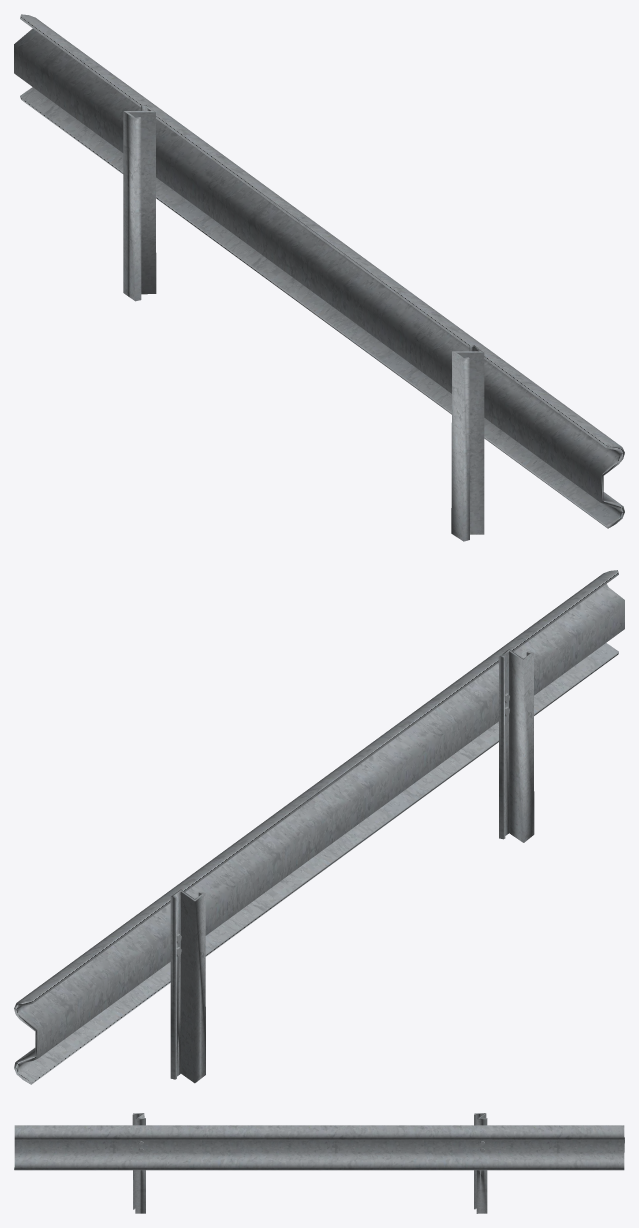
File: road_safety_barrier_600.glb
3 views of the same model, one above another, from view 1: azimuth 30°, elevation 25°; view 2: azimuth 150°, elevation 25°; view 3: azimuth 270°, elevation 25° (orthographic). The views are drawn at different scales.
Visible parts, largest first — view 1: road_safety_barrier_600; view 2: road_safety_barrier_600; view 3: road_safety_barrier_600.
Boxes of the visible parts, box(x1,y1,x2,y2) form: road_safety_barrier_600: box(14, 14, 624, 541); road_safety_barrier_600: box(14, 570, 624, 1084); road_safety_barrier_600: box(14, 1113, 624, 1213).
Bounding box in the file's own units: 0.2851 × 1.03 × 6.
Materials: 1 (1 with a texture image).
